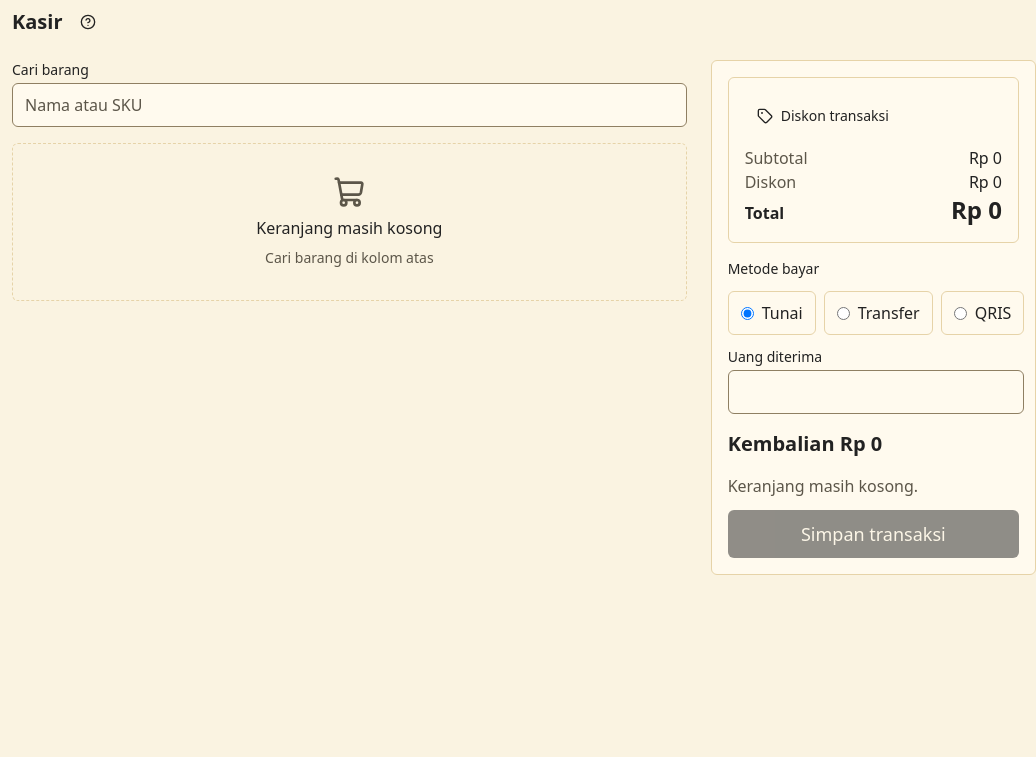
Test: CashierPage › cari, ketuk dua kali, uang pas, simpan, lalu transaksi baru mengosongkan keranjang
Type "beras" into the search field labelled "Cari barang" at (349, 105), box [12, 83, 687, 127]
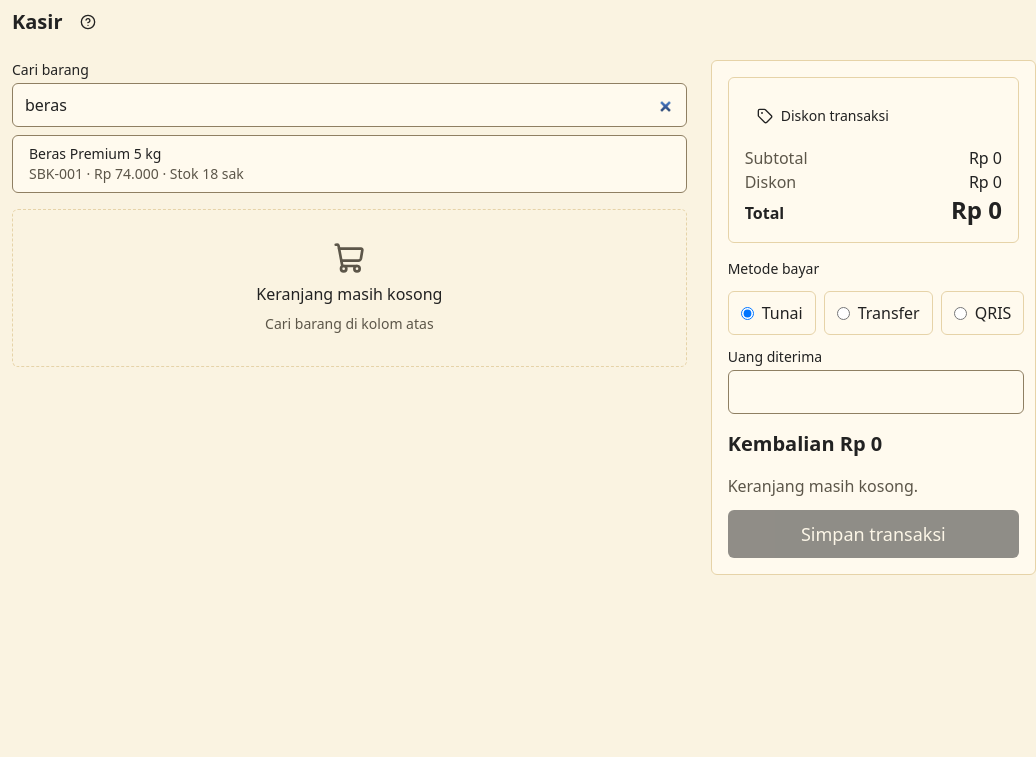
Click the button "Beras Premium 5 kg SBK-001 · Rp 74.000 · Stok 18 sak" at (95, 154), box [12, 135, 687, 193]
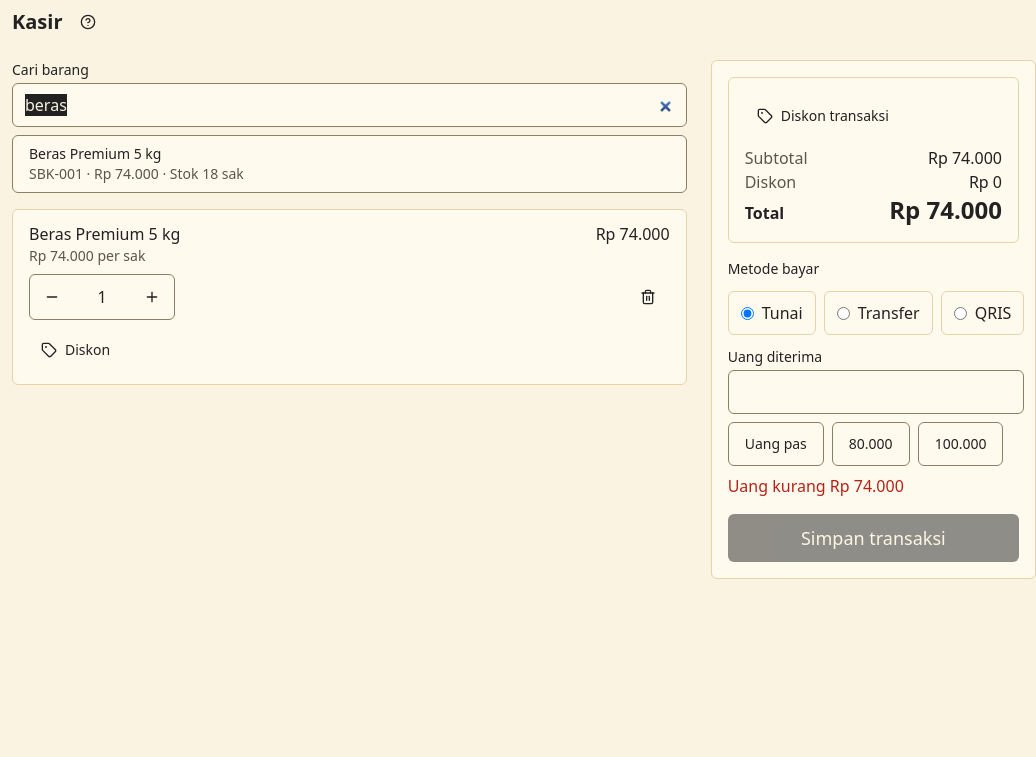
Click the button "Beras Premium 5 kg SBK-001 · Rp 74.000 · Stok 18 sak" at (95, 154), box [12, 135, 687, 193]
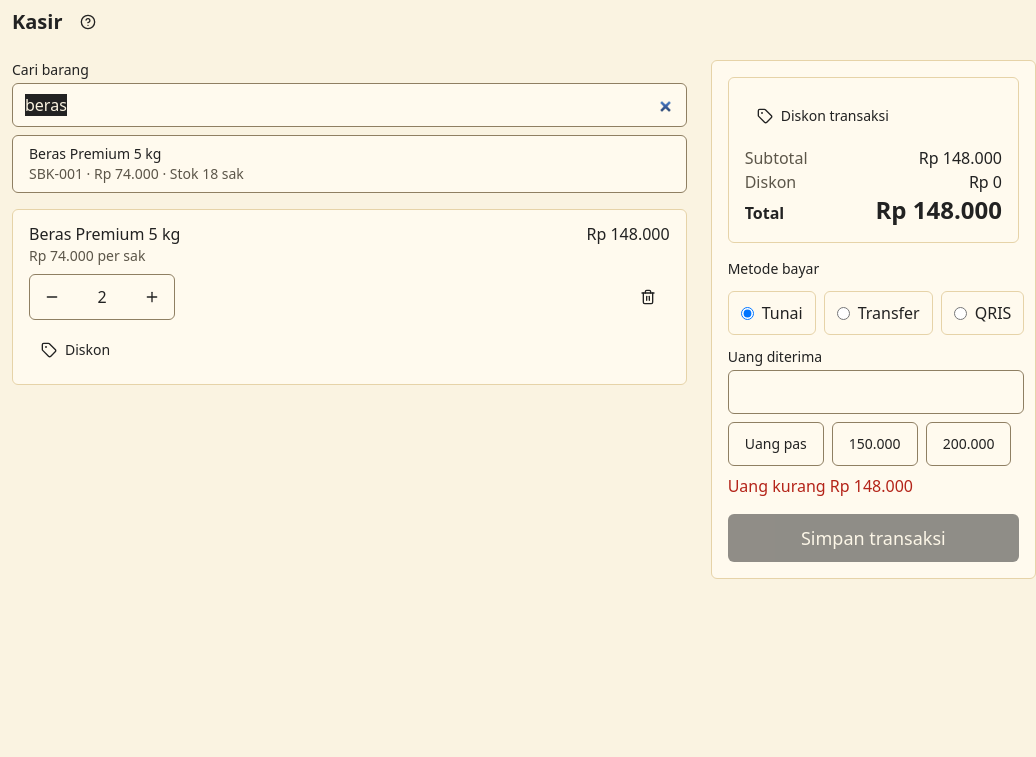
Expected: the field named "Jumlah Beras Premium 5 kg" holds "2", [74, 275, 130, 319]
Expected: the 3rd text "Rp 148.000" is shown, [586, 222, 670, 246]
Click the button "Uang pas" at (776, 444), box [728, 422, 824, 466]
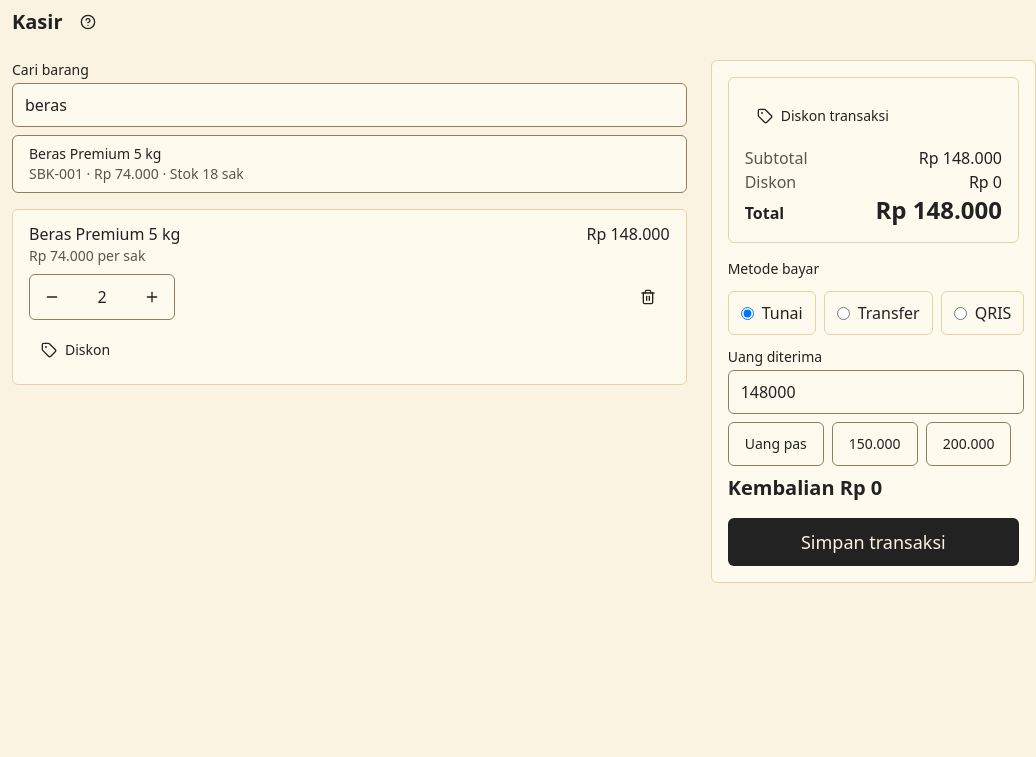
Click the button "Simpan transaksi" at (873, 542), box [728, 518, 1019, 566]
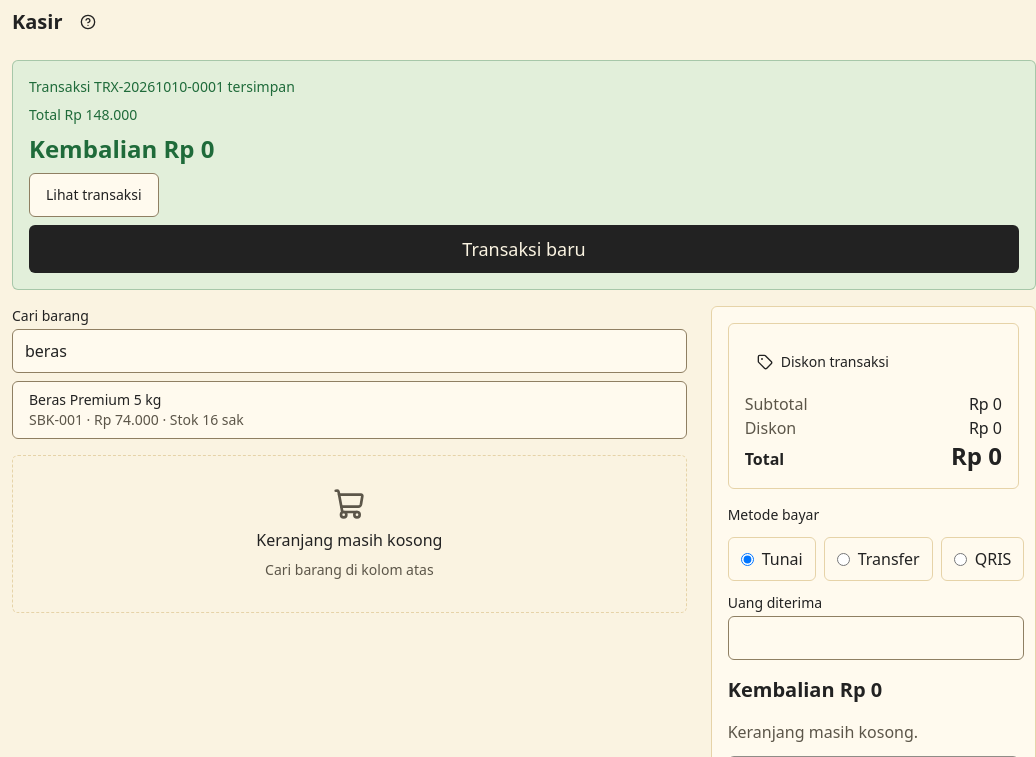
Click the button "Transaksi baru" at (524, 249), box [29, 225, 1019, 273]
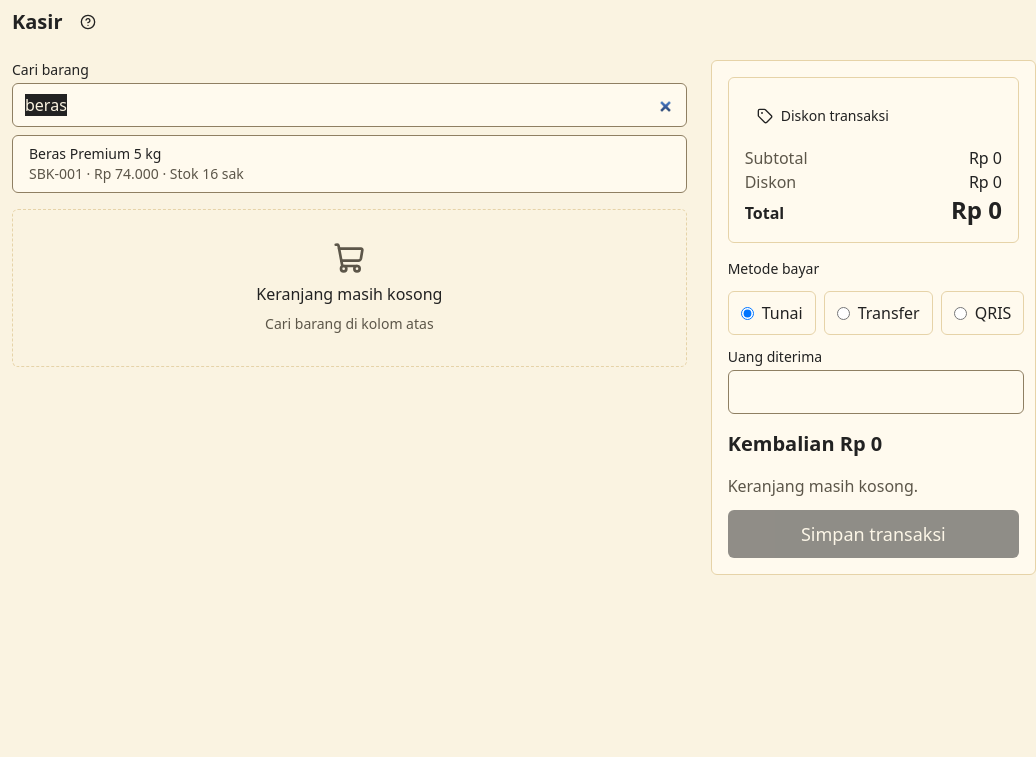
Expected: the message is gone
